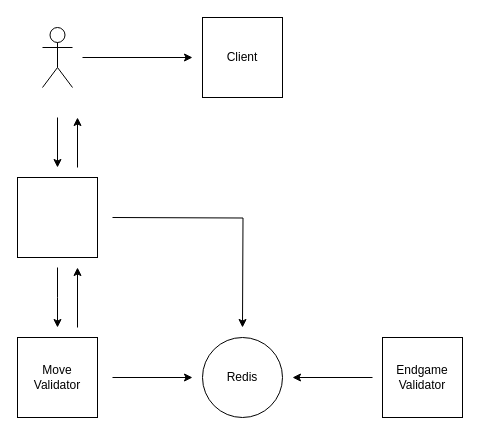
Image size: 480x435. Some labels were removed from this diagram. Here are the shapes that lost their labels. From the top down, the centre of each, then its label:
At point 57,57: "Actor".
At point 57,217: "Gateway".
